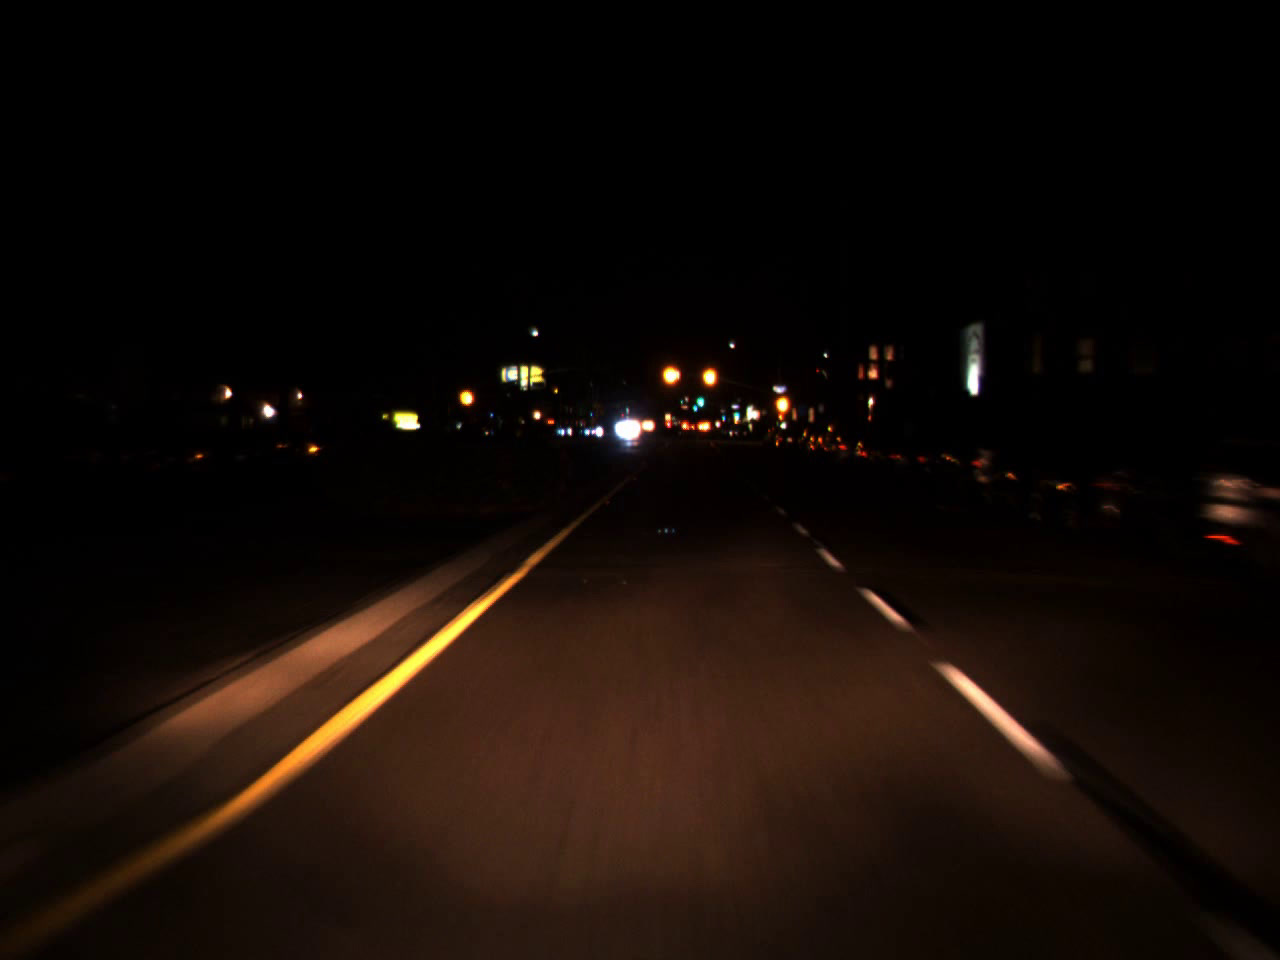go: (695, 389, 703, 410), (733, 406, 740, 418), (719, 410, 726, 422)
warning: (659, 351, 683, 396), (699, 355, 720, 397), (772, 384, 791, 424), (457, 382, 475, 412)
